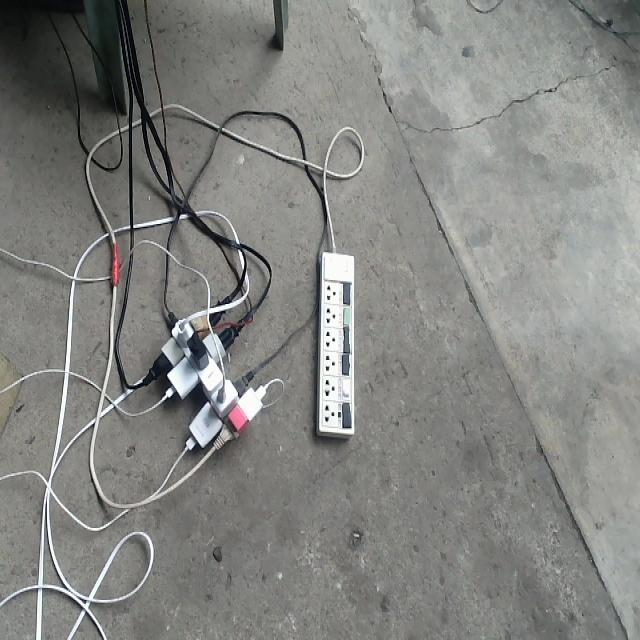-: (108, 252, 301, 521)
